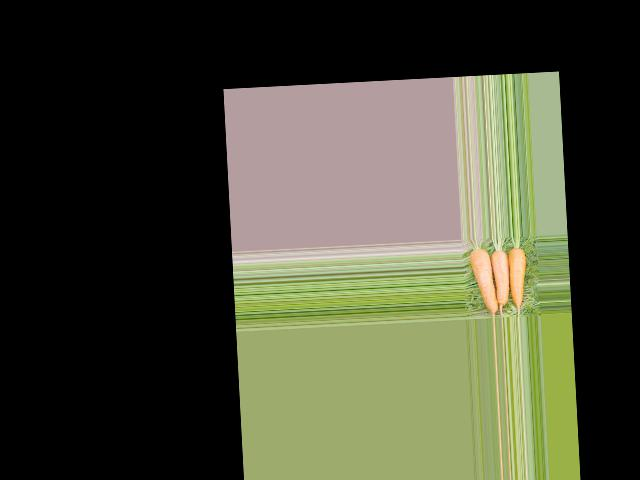carrot: (468, 247, 498, 314)
